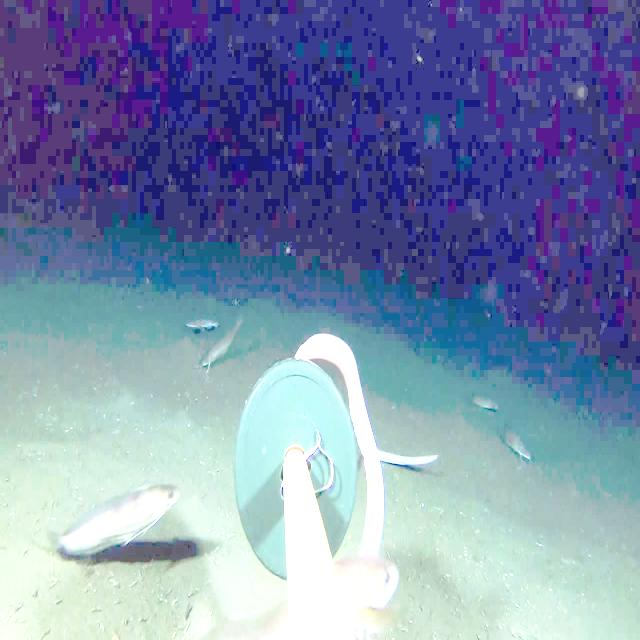eel: (289, 305, 394, 555), (371, 434, 449, 497)
fish: (202, 550, 406, 640), (54, 478, 194, 561), (488, 410, 544, 476), (196, 321, 252, 369), (179, 305, 226, 339), (468, 385, 506, 418)
pole: (233, 353, 365, 639)
